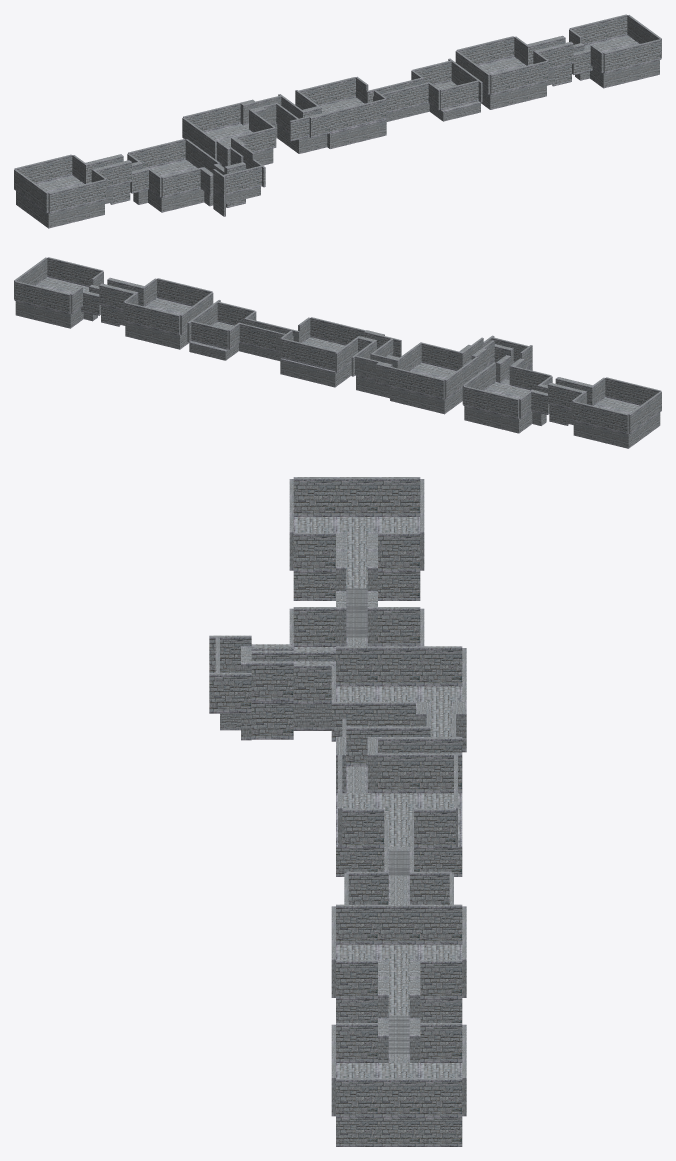
Rendered from RPG.fbx.
3 renders of one model, top to bottom at view 1: azimuth 30°, elevation 25°; view 2: azimuth 150°, elevation 25°; view 3: azimuth 270°, elevation 25°, orthographic. The views are drawn at different scales.
Parts seen in each view (by area): view 1: Box586, Box738, Box717, Box533, Box589, Box741, Box538, Box729, Box841, Box819, Box707, Box753 (+37 smaller); view 2: Box363, Box531, Box337, Box736, Box818, Box718, Box728, Box410, Box525, Box840, Box744, Box543 (+39 smaller); view 3: Box426, Box431, Box517, Box519, Box534, Box725, Box726, Box832, Box834, Box837, Box430, Box524 (+31 smaller).
Boxes of the visible parts, left/top/right/bottom form: Box586: left=309, top=112, right=329, bottom=137; Box738: left=592, top=67, right=622, bottom=88; Box717: left=37, top=207, right=67, bottom=228; Box533: left=151, top=191, right=180, bottom=212; Box589: left=289, top=116, right=309, bottom=141; Box741: left=603, top=48, right=623, bottom=73; Box538: left=161, top=172, right=181, bottom=197; Box729: left=48, top=188, right=68, bottom=213; Box841: left=490, top=70, right=510, bottom=94; Box819: left=552, top=41, right=573, bottom=67; Box707: left=111, top=160, right=131, bottom=186; Box753: left=572, top=49, right=592, bottom=74; Box363: left=317, top=366, right=345, bottom=387; Box531: left=500, top=412, right=529, bottom=433; Box337: left=426, top=393, right=455, bottom=414; Box736: left=52, top=308, right=80, bottom=328; Box818: left=99, top=283, right=119, bottom=308; Box718: left=610, top=428, right=638, bottom=448; Box728: left=609, top=410, right=628, bottom=434; Box410: left=209, top=325, right=228, bottom=349; Box525: left=425, top=375, right=444, bottom=399; Box840: left=160, top=311, right=179, bottom=334; Box744: left=51, top=290, right=70, bottom=313; Box543: left=499, top=395, right=518, bottom=418; Box426: left=378, top=753, right=420, bottom=793; Box431: left=342, top=808, right=384, bottom=848; Box517: left=420, top=646, right=462, bottom=686; Box519: left=378, top=646, right=420, bottom=686; Box534: left=251, top=661, right=293, bottom=701; Box725: left=378, top=532, right=420, bottom=572; Box726: left=293, top=532, right=335, bottom=572; Box832: left=420, top=904, right=462, bottom=944; Box834: left=378, top=904, right=420, bottom=944; Box837: left=420, top=959, right=462, bottom=999; Box430: left=414, top=808, right=455, bottom=848; Box524: left=336, top=646, right=377, bottom=686.
Size of the model in its own units: 33200 by 2400 by 6100.
